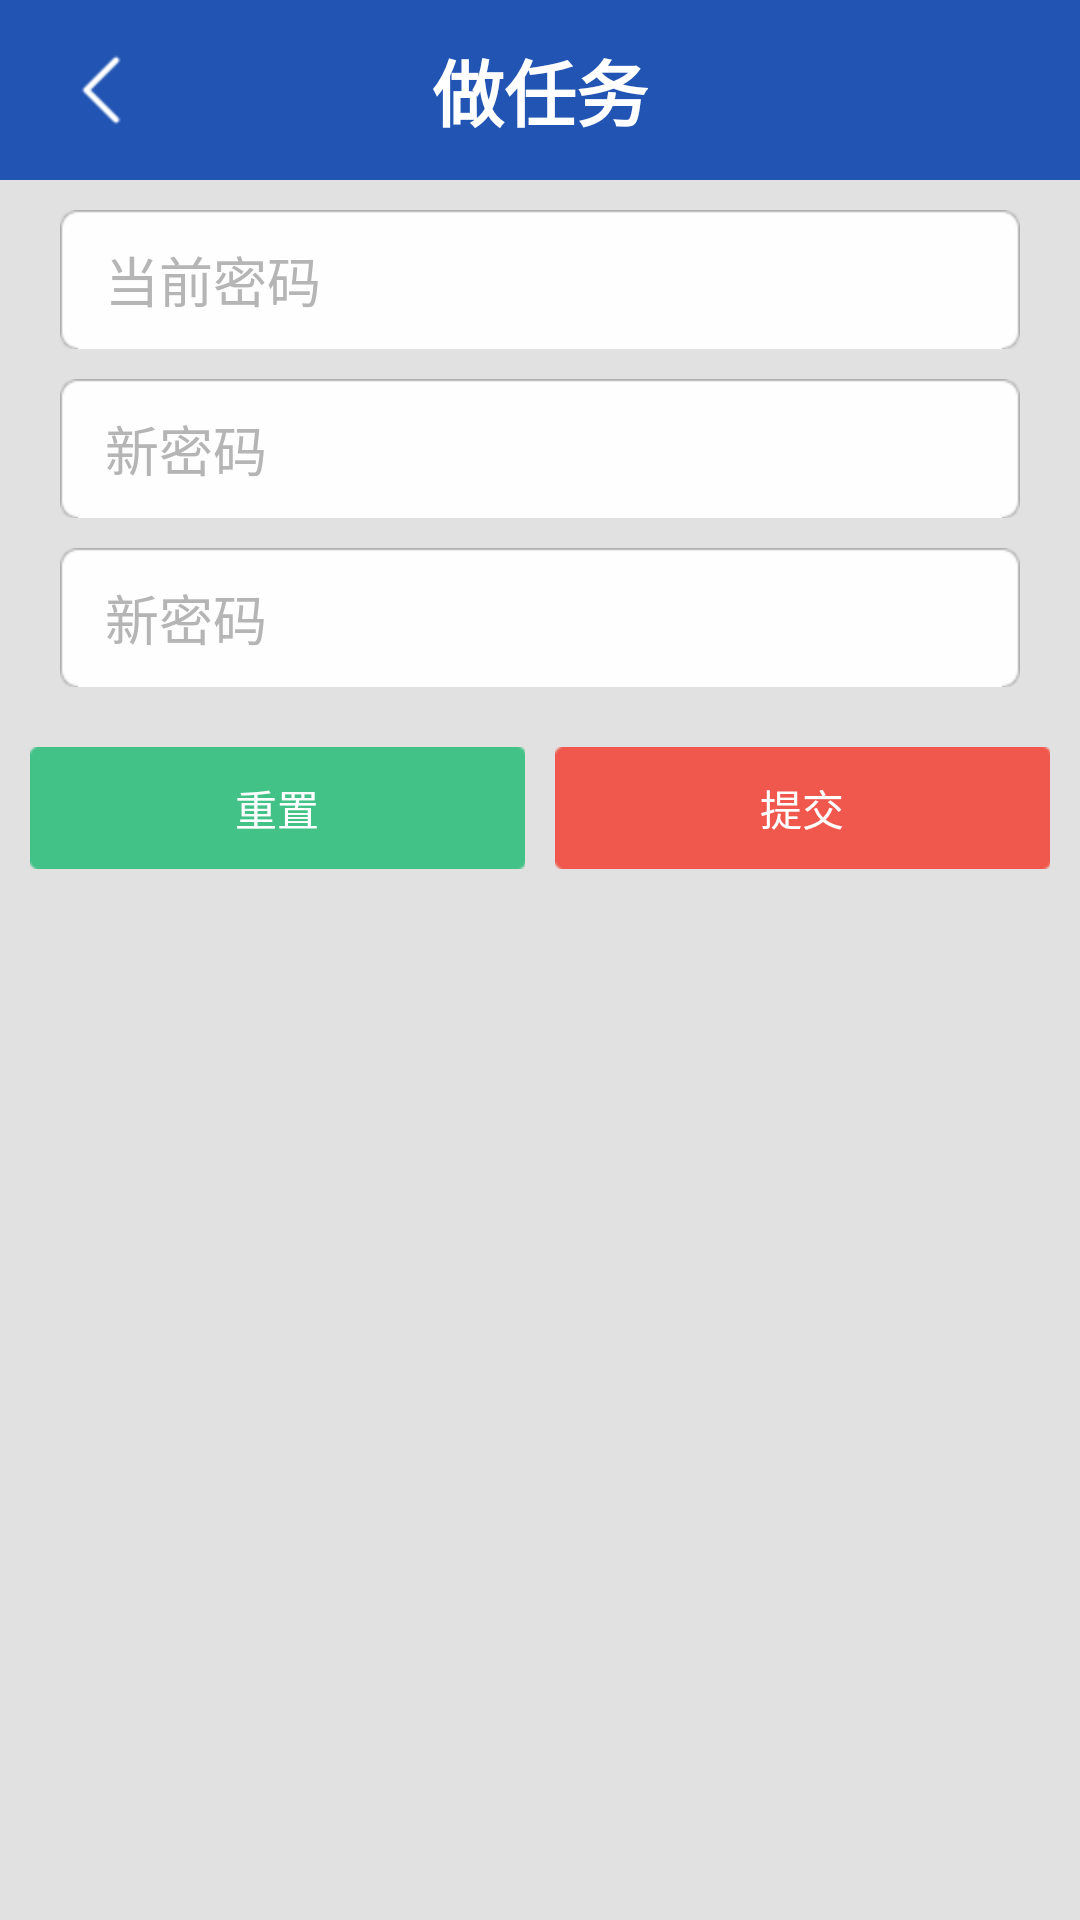

Locate icon controls on the screen. Image size 1080px×1920px, boxes as [left=x1, top=y1, right=x2, bottom=y2].
back: [left=82, top=56, right=120, bottom=124]
